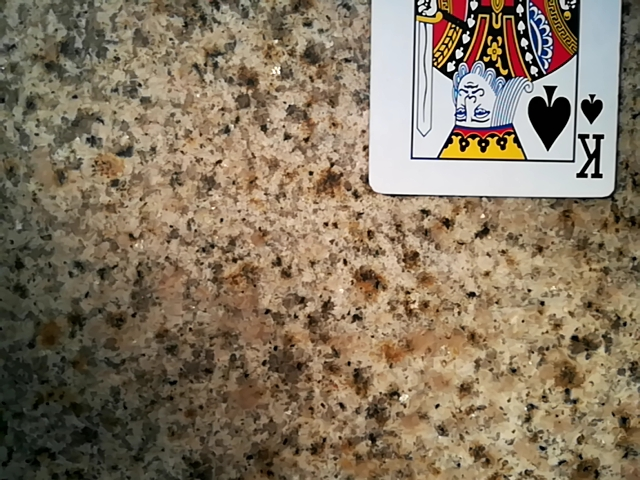ht k: (366, 1, 629, 202)
